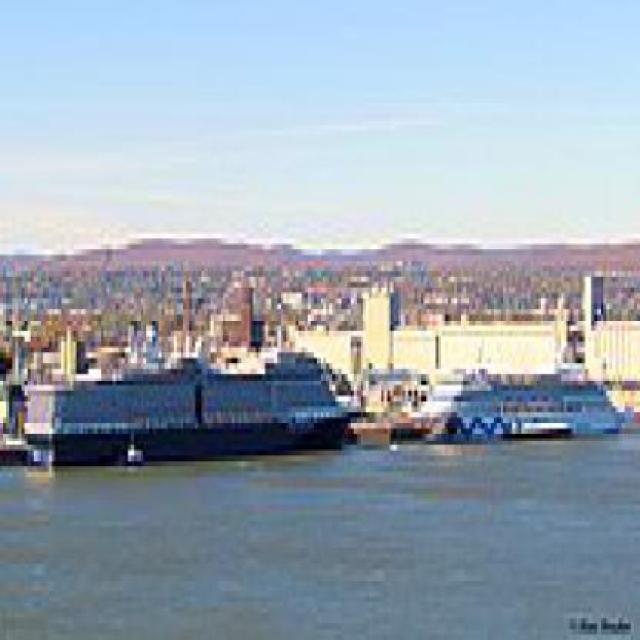cruise: (20, 332, 374, 495), (407, 326, 636, 468)
